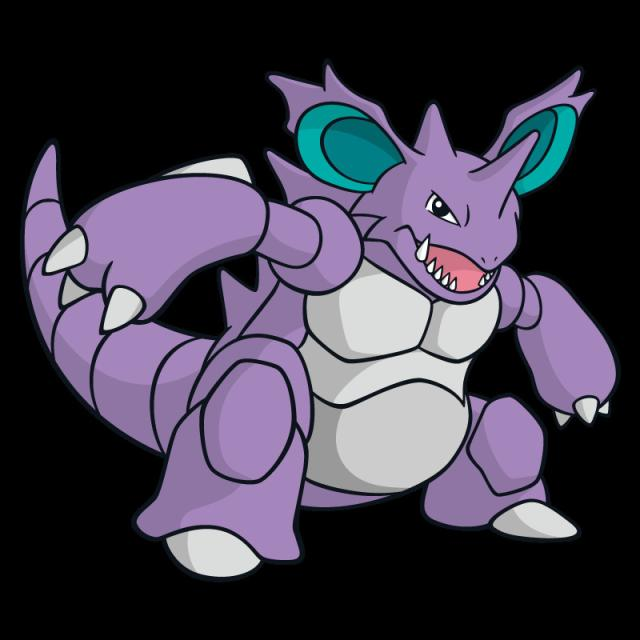Nidoking: (51, 64, 609, 566)
